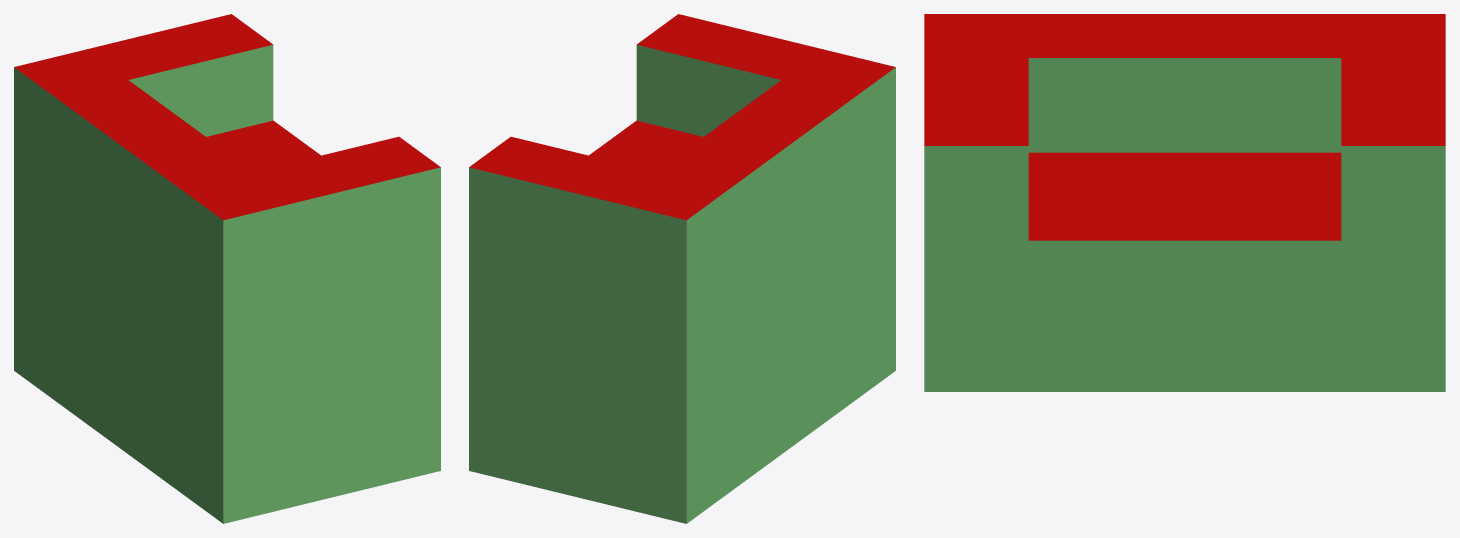
File: x_00_colonn_9_pod_sunduk2.fbx
3 views of the same model, side by side, from view 1: azimuth 30°, elevation 25°; view 2: azimuth 150°, elevation 25°; view 3: azimuth 270°, elevation 25° (orthographic). The views are drawn at different scales.
Visible parts, largest first — view 1: x_00_colonn_9_pod_sunduk2_1; view 2: x_00_colonn_9_pod_sunduk2_1; view 3: x_00_colonn_9_pod_sunduk2_1.
Boxes of the visible parts, x1,y1,x2,y2 form: x_00_colonn_9_pod_sunduk2_1: (14, 14, 440, 523); x_00_colonn_9_pod_sunduk2_1: (469, 14, 895, 523); x_00_colonn_9_pod_sunduk2_1: (924, 14, 1445, 391).
Bounding box in the file's own units: 3 × 4 × 5.
